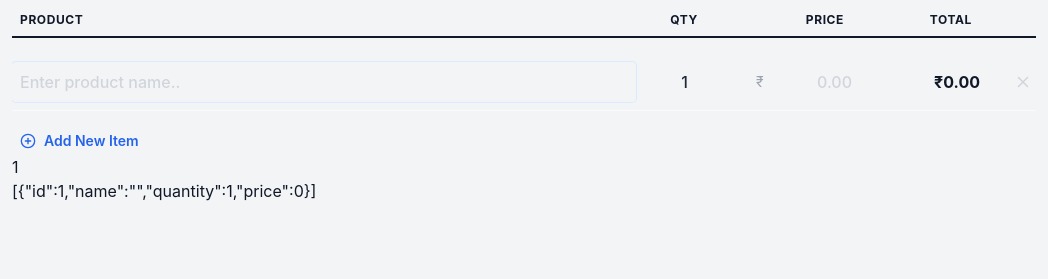
Scenario: PR - Product Row Logic › PR-02: should add a new row when "+ Add New Item" is clicked
Expected: the text with test id "product-count" reads "1", x1=12 y1=157 x2=18 y2=177
Click the button "Add New Item" at (79, 141), box x1=12 y1=127 x2=147 y2=155
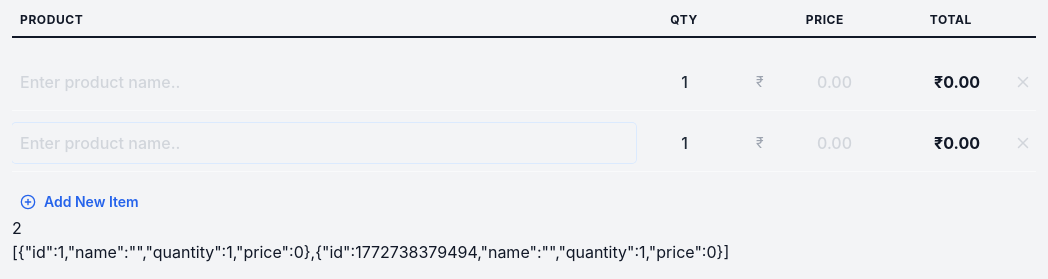
Expected: the text with test id "product-count" reads "2", x1=12 y1=218 x2=22 y2=238
